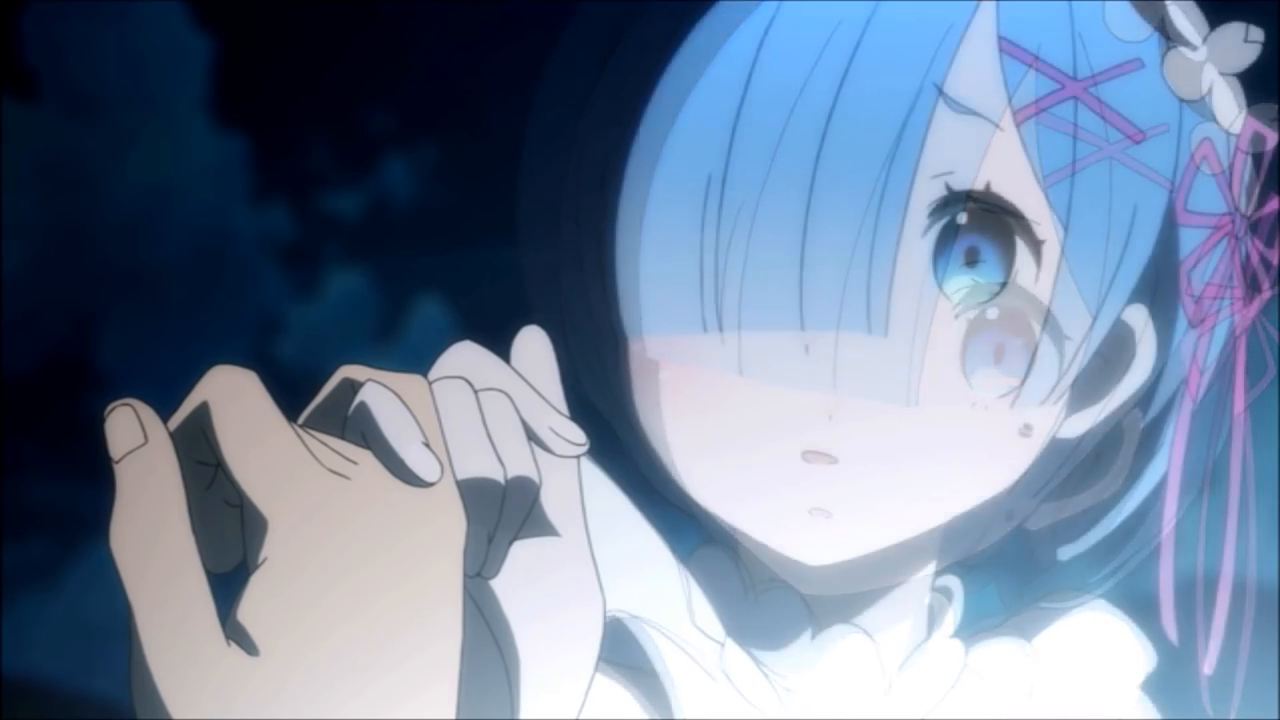REM: (521, 7, 1249, 612)
